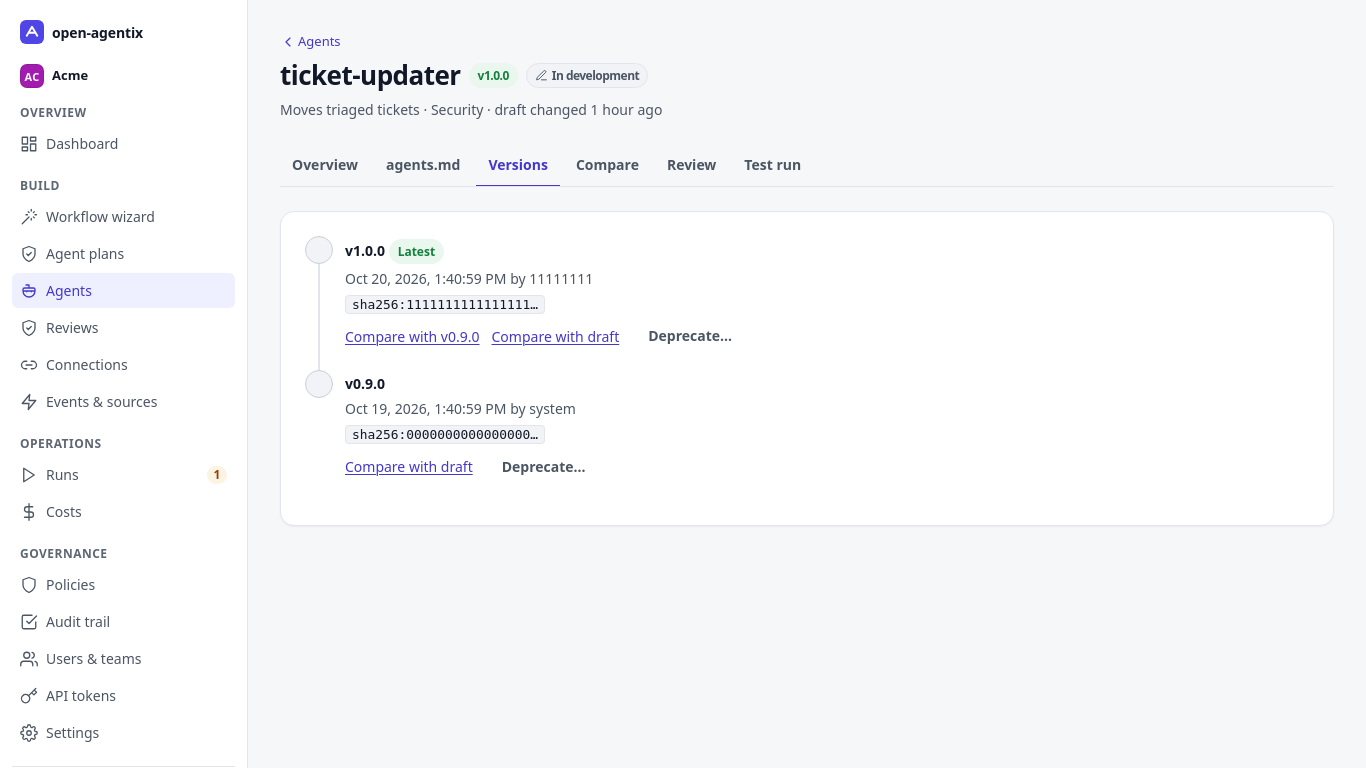
Test: agent detail › shows version history and compares versions
Expected: the list item "Latest" shows "v1.0.0", [305,236,749,354]
Click the link "Compare with v0.9.0": click(412, 336) [345,326,480,347]
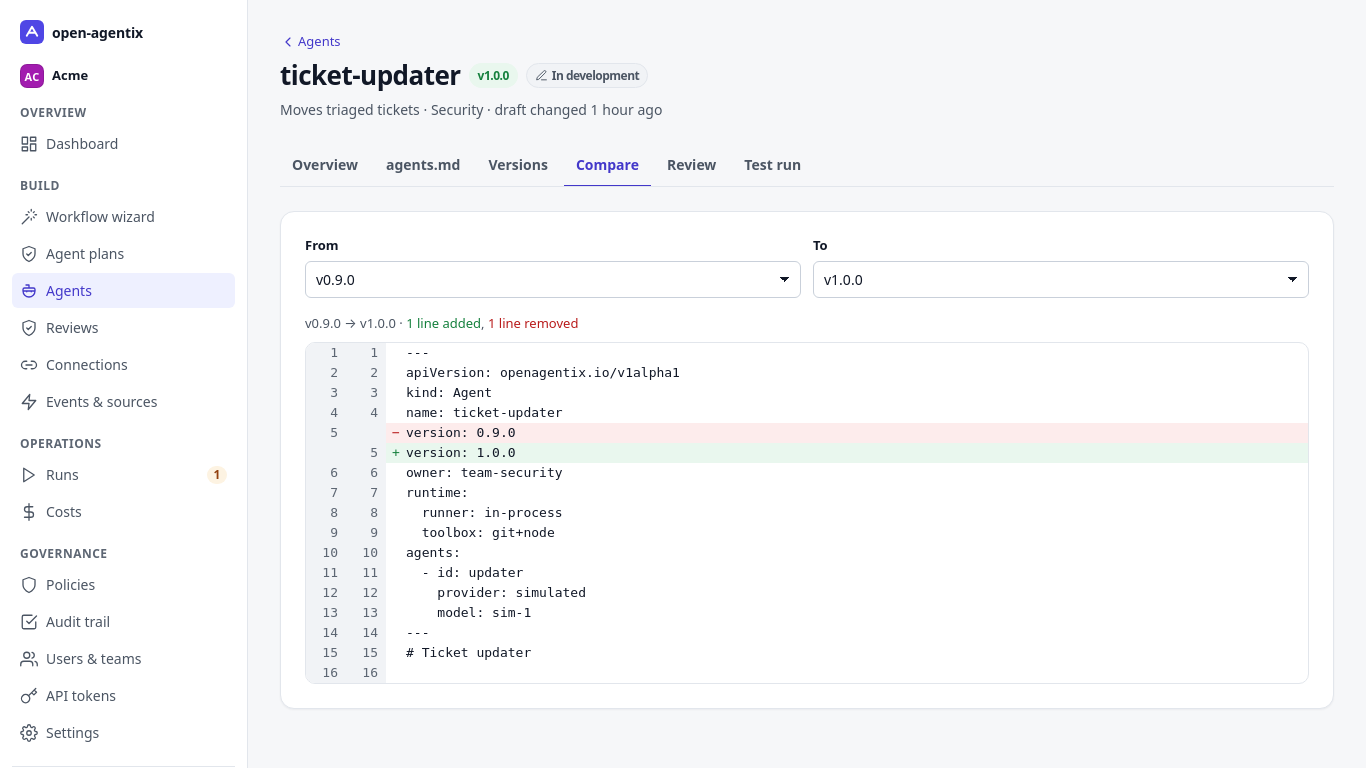
Expected: the text "v0.9.0 → v1.0.0 · 1 line added, 1 line removed" is shown, [305,314,578,332]
Select "Draft" in the dropdown labelled "To": (1061, 280) [813,261,1309,298]
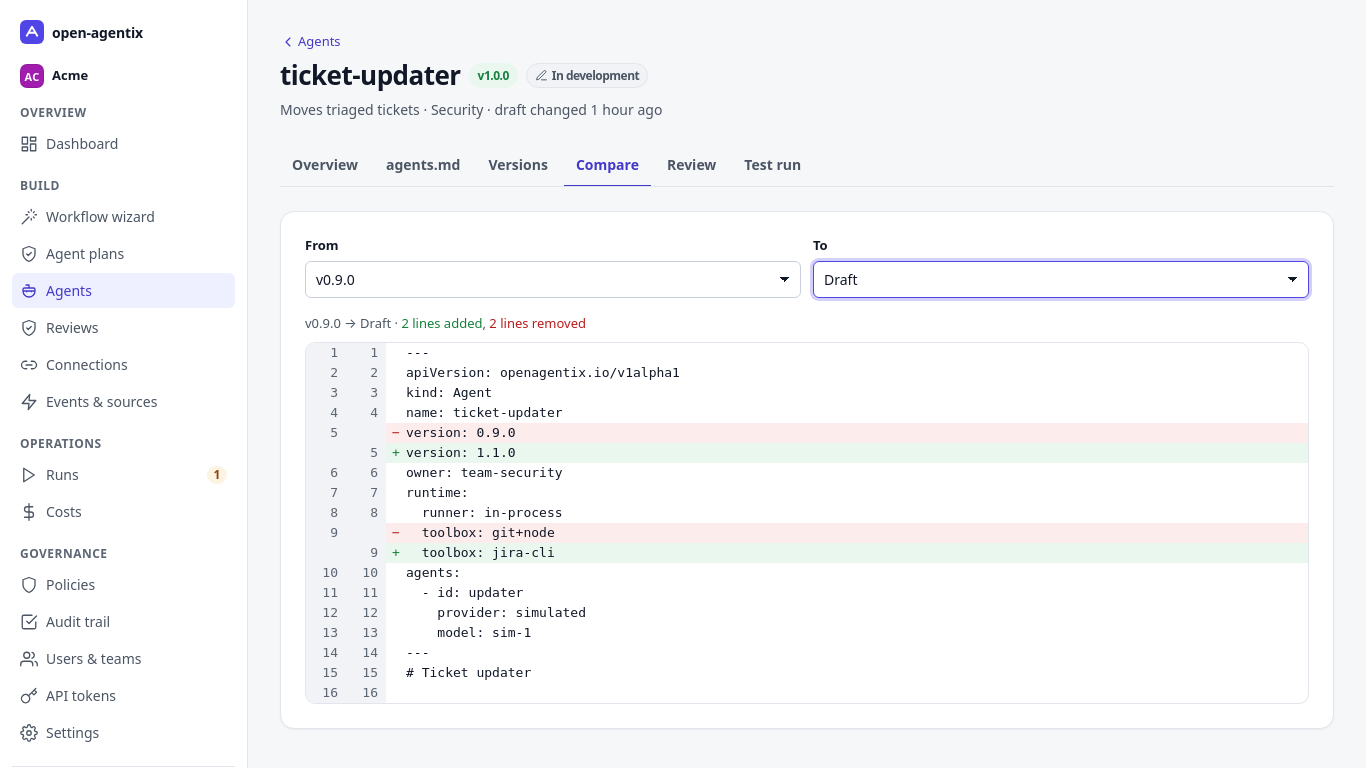
Expected: the text "v0.9.0 → Draft · 2 lines added, 2 lines removed" is shown, [305,314,586,332]
Select "Draft" in the dropdown labelled "From": (553, 280) [305,261,801,298]
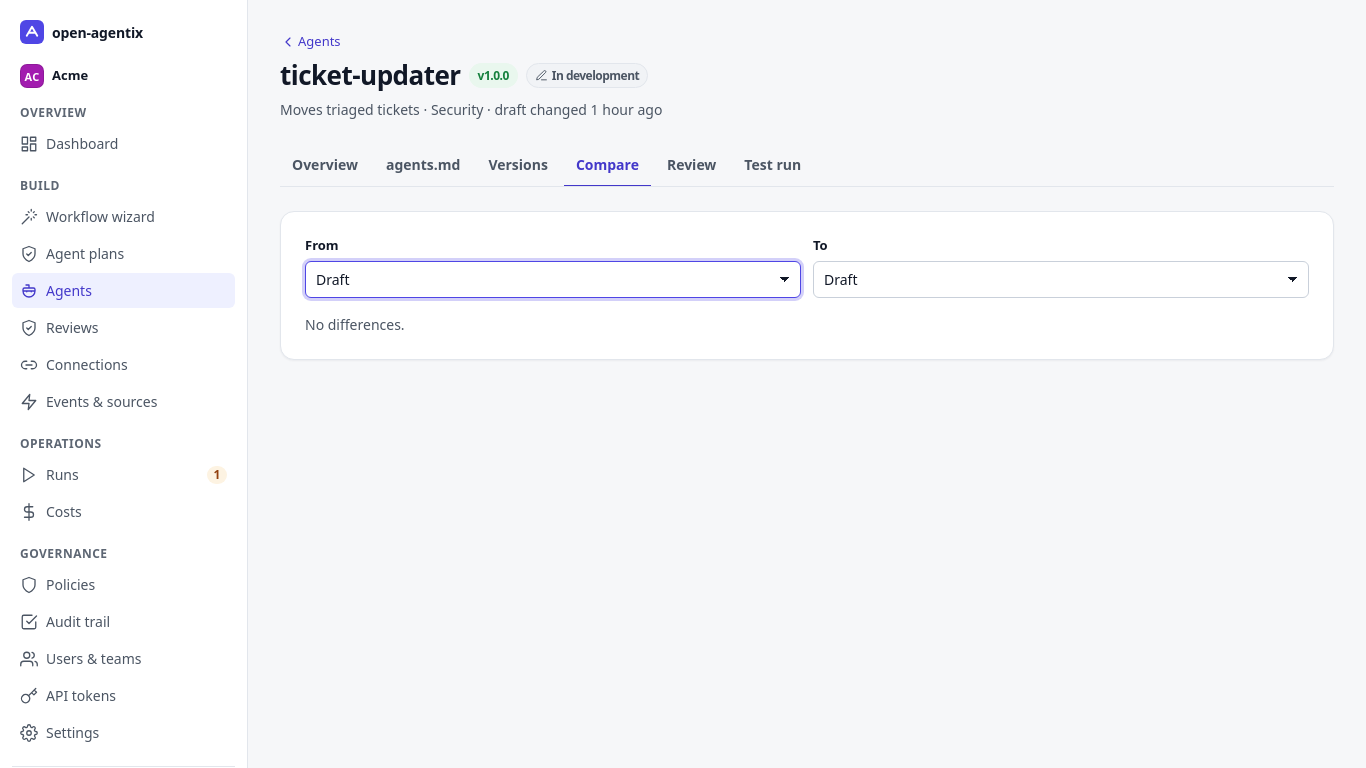
Expected: the text "No differences." is shown, [305,315,405,334]
